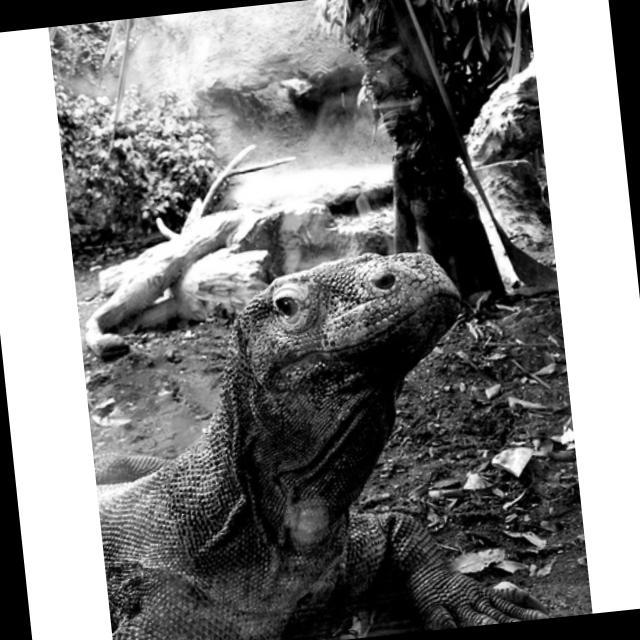KomodoDragon: (74, 230, 560, 640)
